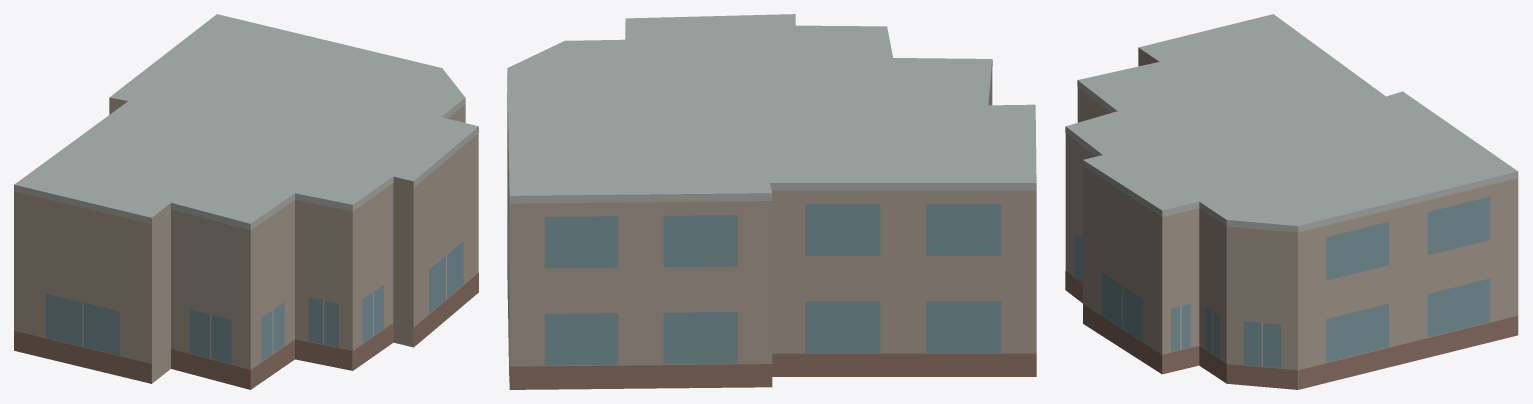
Rendered from survey-upis-32752939.glb.
3 renders of one model, left to right at view 1: azimuth 30°, elevation 25°; view 2: azimuth 150°, elevation 25°; view 3: azimuth 270°, elevation 25°, orthographic. The views are drawn at different scales.
Parts seen in each view (by area): view 1: survey-upis-32752939.tmp; view 2: survey-upis-32752939.tmp; view 3: survey-upis-32752939.tmp.
Boxes of the visible parts, box(x1,y1,x2,y2) form: survey-upis-32752939.tmp: box(14, 14, 478, 389); survey-upis-32752939.tmp: box(507, 14, 1036, 389); survey-upis-32752939.tmp: box(1065, 14, 1518, 389).
Bounding box in the file's own units: 16.95 × 6.1 × 15.29.
